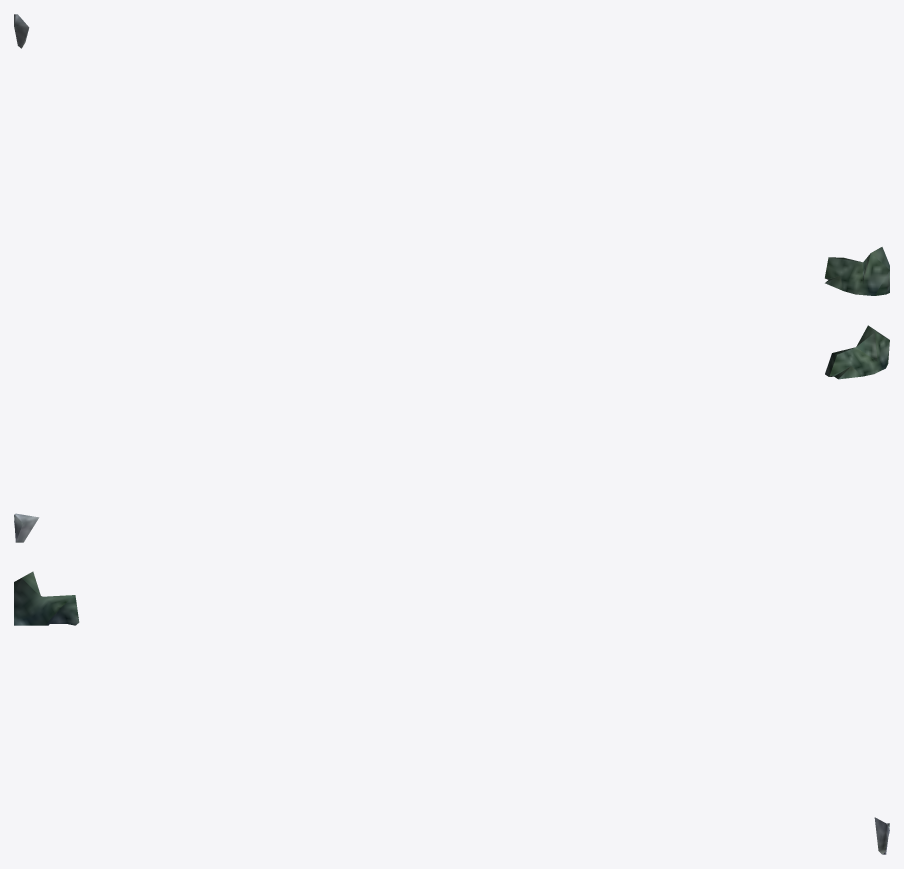
The picture shows the model from 3 angles, top to bottom: view 1: azimuth 90°, elevation 25°; view 2: azimuth 150°, elevation 25°; view 3: azimuth 270°, elevation 25°; orthographic projection. The views are drawn at different scales.
Visible parts, largest first — view 1: 30436272704370627525_0; view 2: 30436272704370627525_0; view 3: 30436272704370627525_0.
Boxes of the visible parts, box(x1,y1,x2,y2) form: 30436272704370627525_0: box(14, 14, 889, 295); 30436272704370627525_0: box(14, 325, 889, 542); 30436272704370627525_0: box(14, 571, 889, 854).
Size of the model in its own units: 23.77 by 2.16 by 35.18.
1 material, 1 textured.
